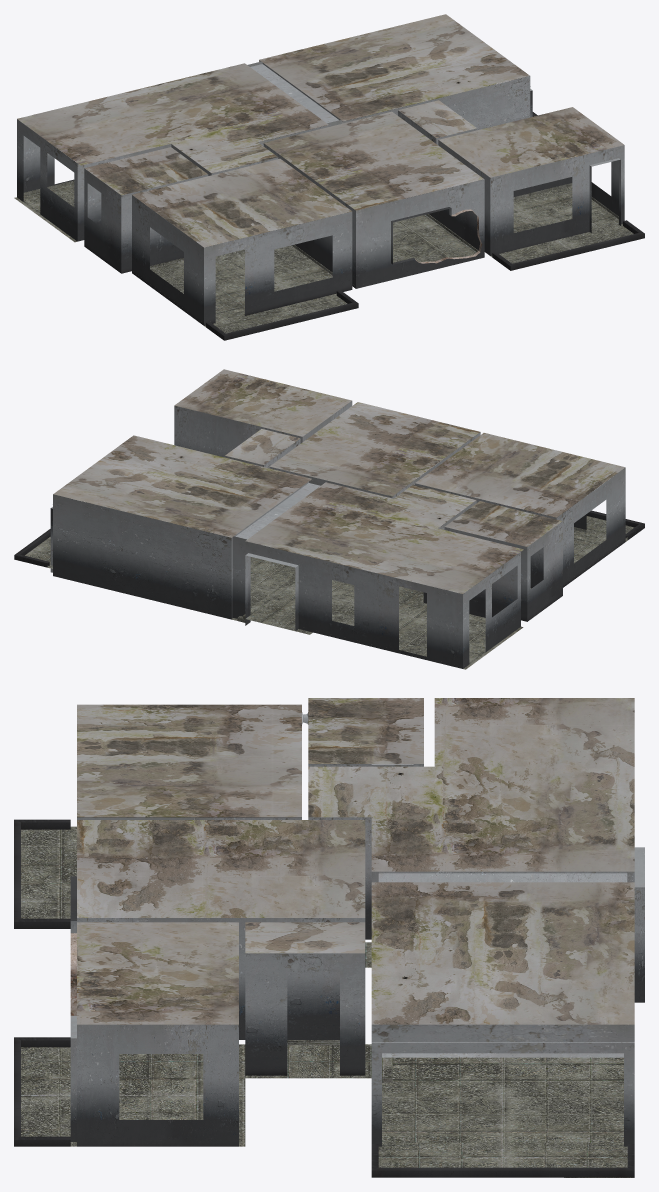
File: A1_H3_WFC.FBX
3 views of the same model, one above another, from view 1: azimuth 30°, elevation 25°; view 2: azimuth 150°, elevation 25°; view 3: azimuth 270°, elevation 25° (orthographic). The views are drawn at different scales.
Parts seen in each view (by area): view 1: A1_H3_Ceiling, A1_H3_R3_Walls, A1_H3_LR_Walls, A1_H3_R1_Walls, A1_H3_R2_Walls, A1_H3_R3_Floor, A1_H3_R1_Floor, A1_H3_T1_Walls, A1_H3_R2_Floor, A1_H3_LR_Floor; view 2: A1_H3_Ceiling, A1_H3_LR_Walls, A1_H3_LR_Floor, A1_H3_R3_Walls, A1_H3_T1_Walls, A1_H3_R1_Walls, A1_H3_R3_Floor, A1_H3_R2_Walls; view 3: A1_H3_Ceiling, A1_H3_LR_Floor, A1_H3_LR_Walls, A1_H3_R1_Walls, A1_H3_P1_Walls, A1_H3_R1_Floor, A1_H3_R3_Floor, A1_H3_R2_Walls, A1_H3_P1_Floor, A1_H3_R3_Walls.
Part boxes in pixels (x1,y1,x2,y2): A1_H3_Ceiling: [17, 14, 623, 247]; A1_H3_R3_Walls: [132, 195, 358, 340]; A1_H3_LR_Walls: [17, 60, 537, 241]; A1_H3_R1_Walls: [438, 140, 644, 270]; A1_H3_R2_Walls: [263, 143, 484, 288]; A1_H3_R3_Floor: [150, 244, 347, 333]; A1_H3_R1_Floor: [490, 183, 633, 263]; A1_H3_T1_Walls: [84, 168, 208, 273]; A1_H3_R2_Floor: [393, 214, 478, 262]; A1_H3_LR_Floor: [14, 89, 474, 242]; A1_H3_Ceiling: [53, 369, 624, 593]; A1_H3_LR_Walls: [14, 479, 520, 668]; A1_H3_LR_Floor: [25, 537, 523, 669]; A1_H3_R3_Walls: [415, 467, 644, 587]; A1_H3_T1_Walls: [444, 521, 562, 621]; A1_H3_R1_Walls: [174, 401, 352, 457]; A1_H3_R3_Floor: [574, 516, 634, 563]; A1_H3_R2_Walls: [269, 432, 480, 498]; A1_H3_Ceiling: [77, 698, 634, 1024]; A1_H3_LR_Floor: [378, 1057, 634, 1177]; A1_H3_LR_Walls: [308, 817, 644, 1177]; A1_H3_R1_Walls: [14, 1016, 238, 1146]; A1_H3_P1_Walls: [245, 953, 365, 1075]; A1_H3_R1_Floor: [21, 1044, 245, 1146]; A1_H3_R3_Floor: [21, 826, 76, 918]; A1_H3_R2_Walls: [70, 876, 365, 1039]; A1_H3_P1_Floor: [245, 1040, 371, 1078]; A1_H3_R3_Walls: [14, 817, 301, 928].
Size of the model in its own units: 2024 by 351 by 1500.
